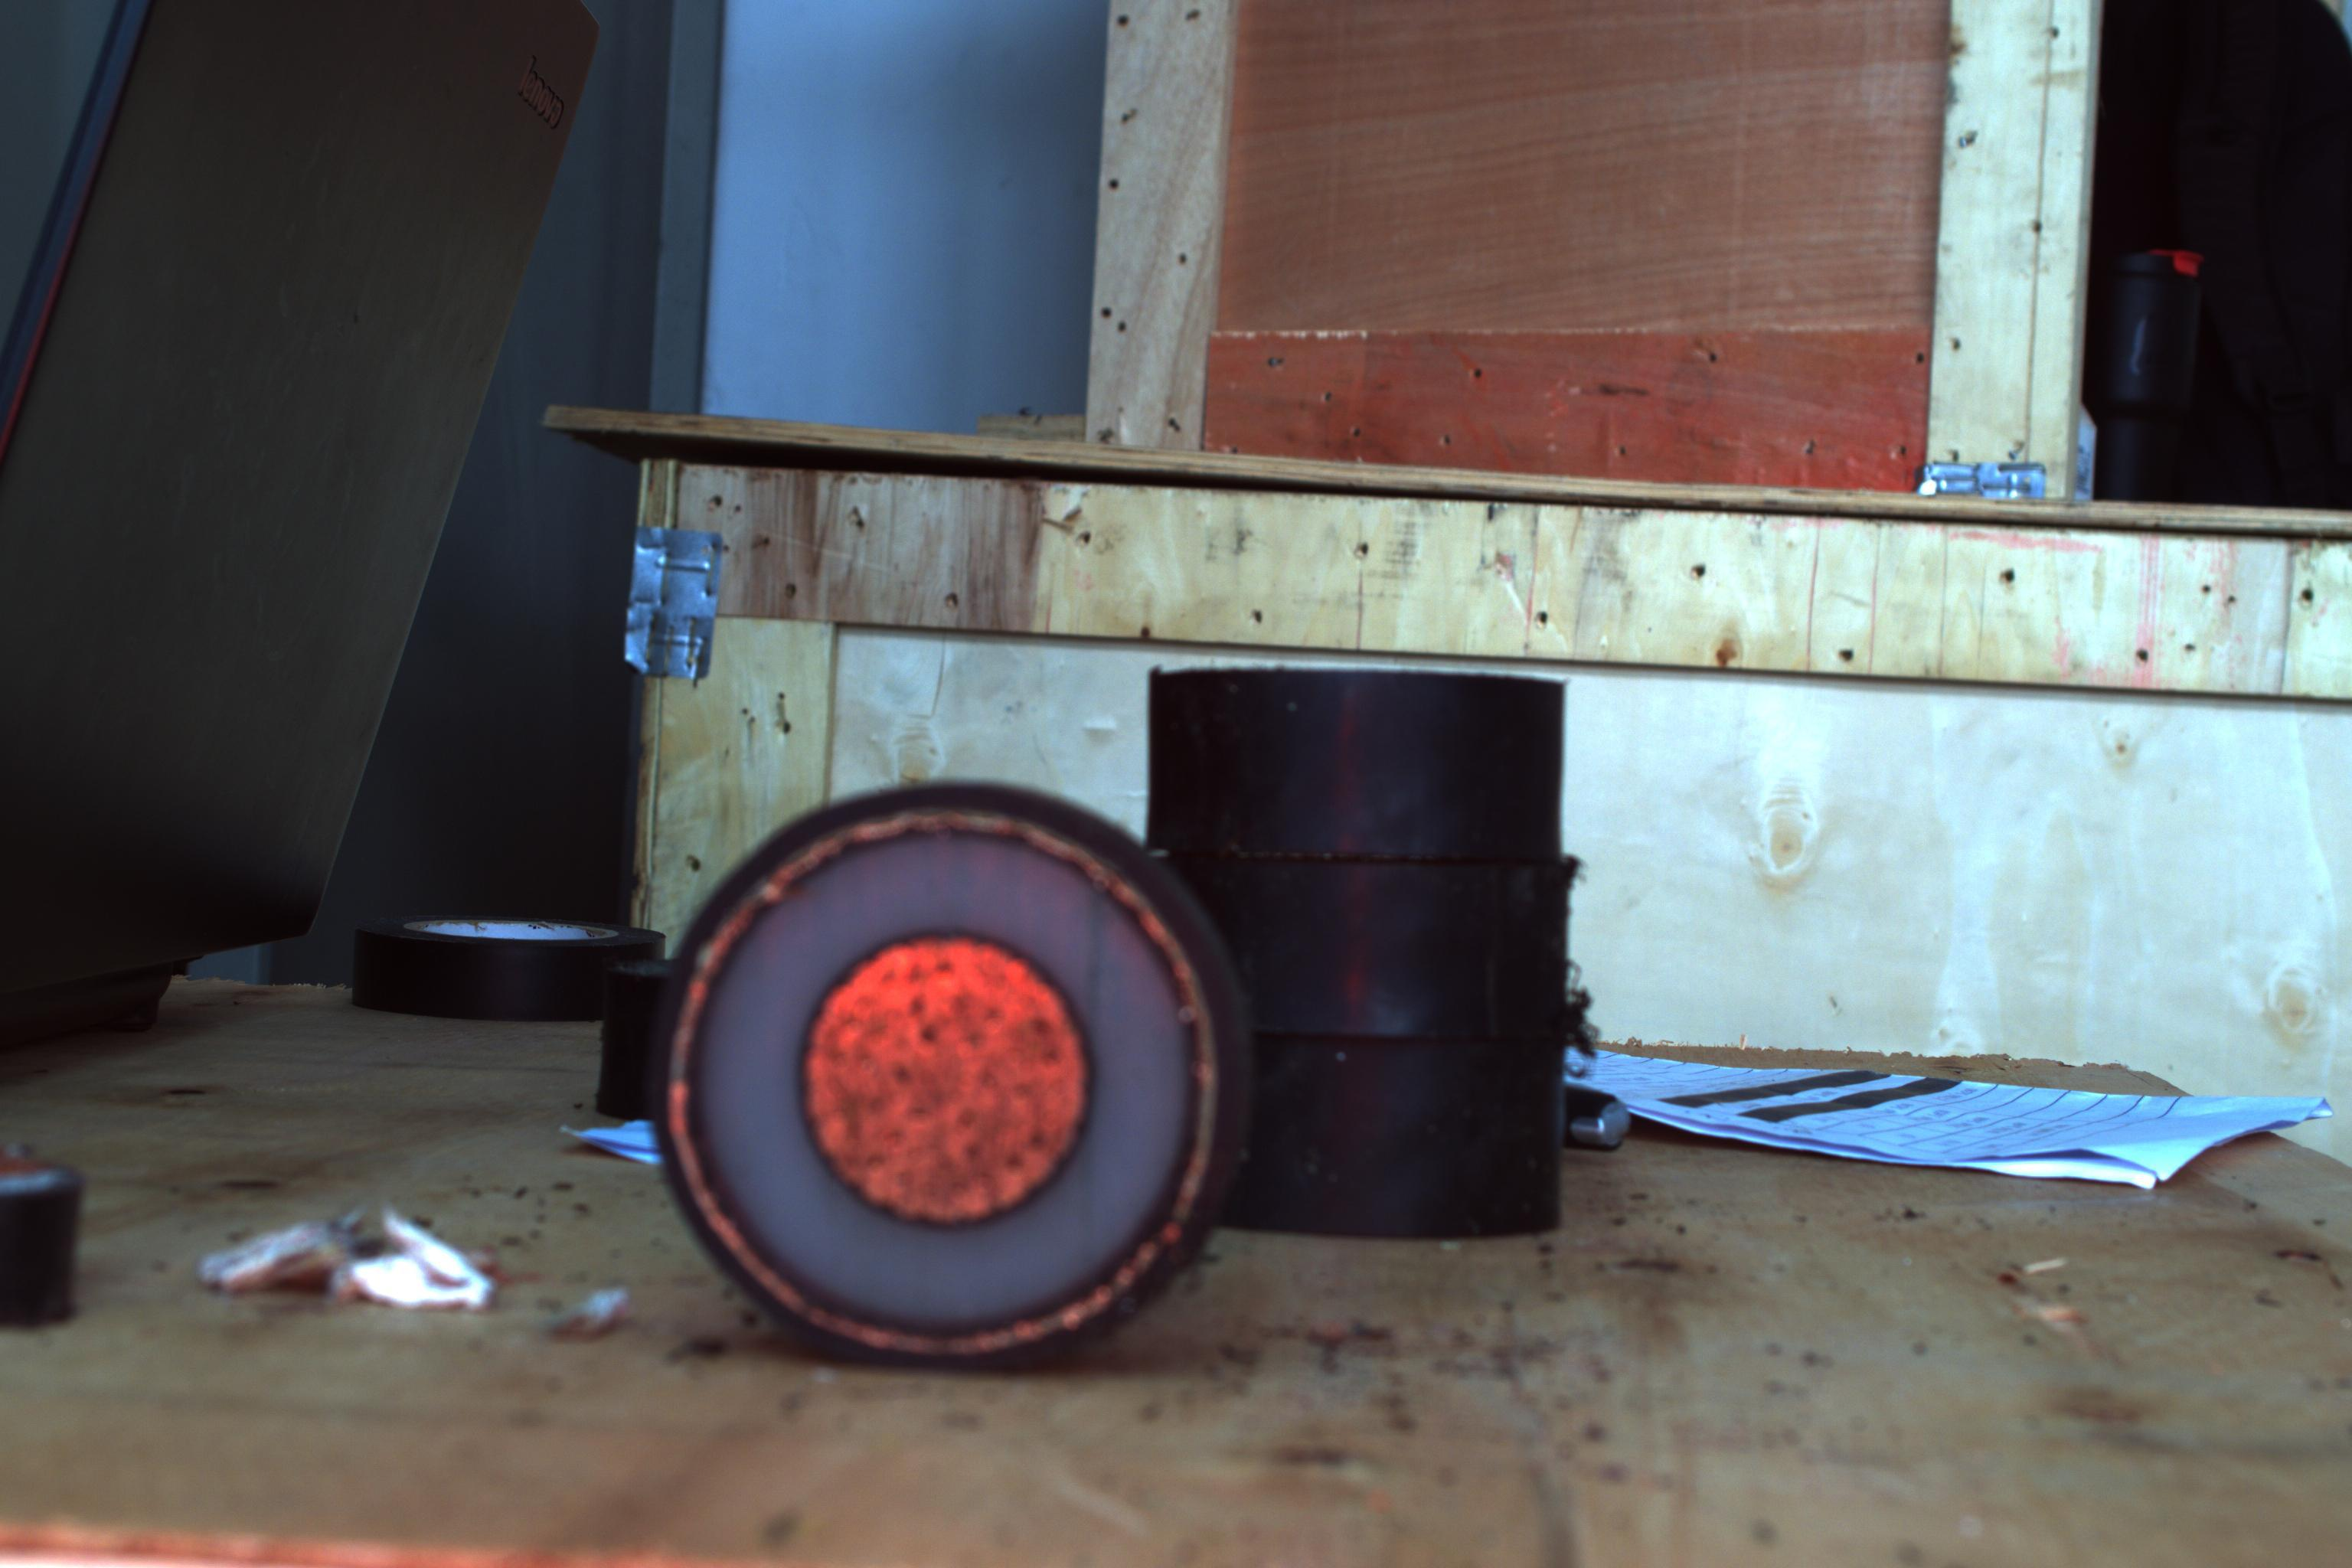YJV_26_35kV_1x630: (670, 791, 1260, 1358)
